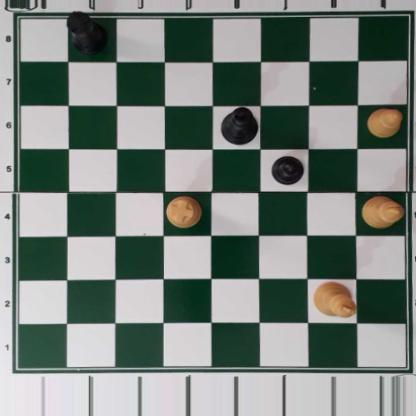black-king: (219, 105, 259, 145)
black-pawn: (271, 154, 304, 186)
black-rook: (66, 10, 108, 54)
white-bishop: (361, 196, 405, 230)
white-king: (313, 281, 356, 318)
white-pawn: (365, 106, 403, 137)
white-rook: (166, 196, 202, 229)
